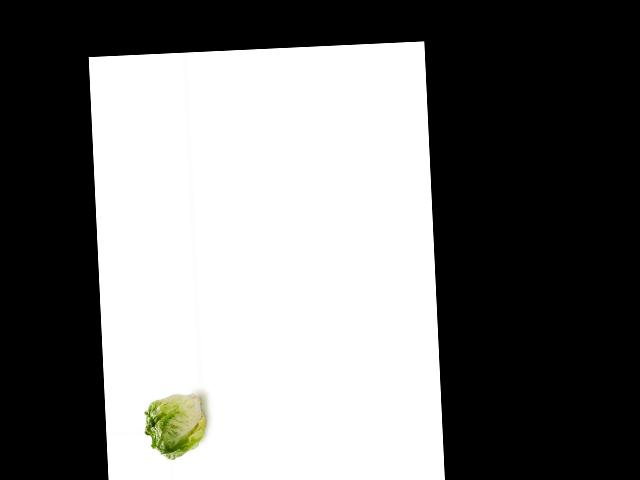lettuce: (140, 388, 206, 464)
